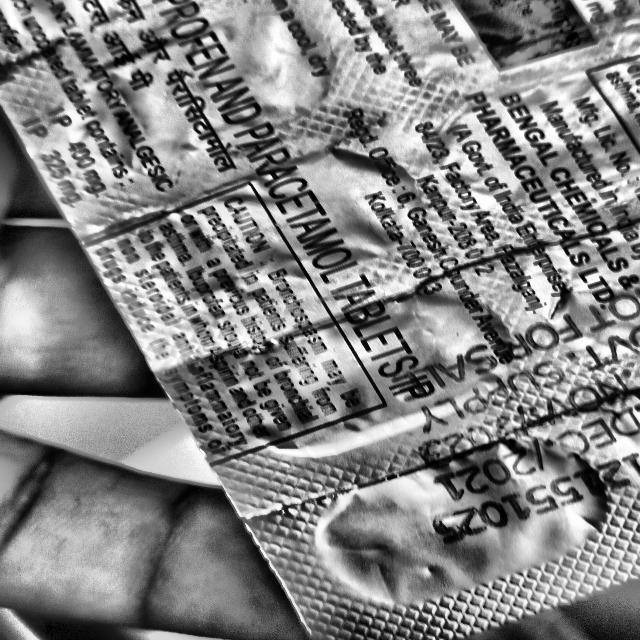IBUPROFEN AND PARACETAMOL TABLETS: (113, 0, 492, 437)
